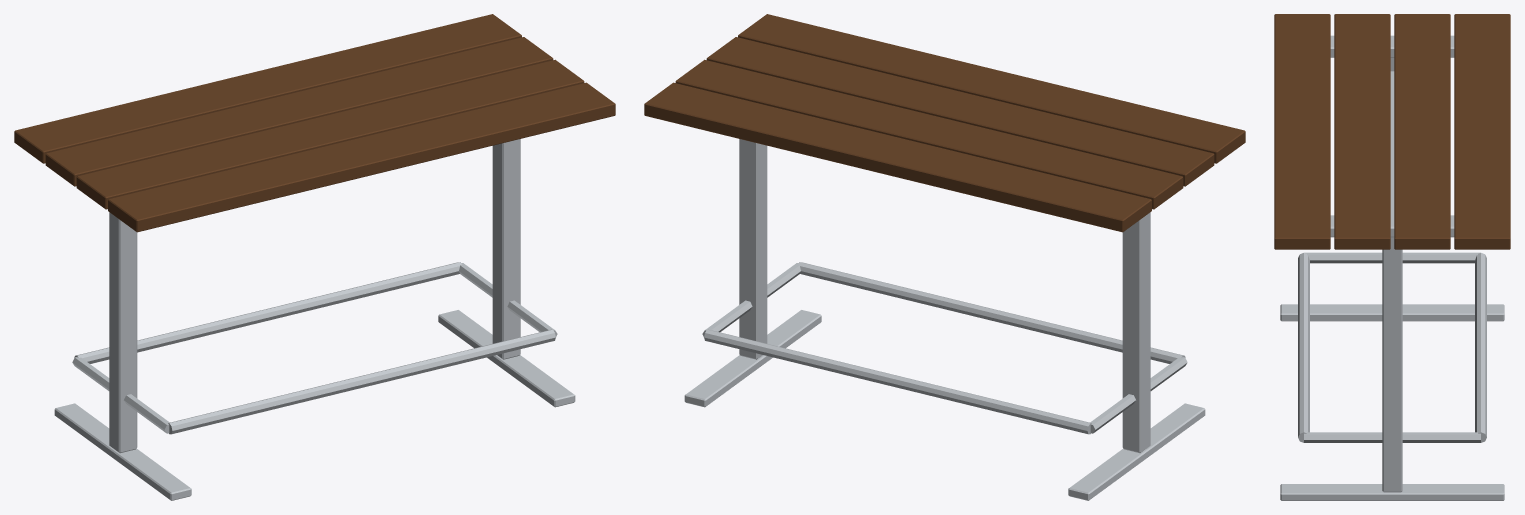
Rendered from HighTable.obj.
3 renders of one model, left to right at view 1: azimuth 30°, elevation 25°; view 2: azimuth 150°, elevation 25°; view 3: azimuth 270°, elevation 25°, orthographic. The views are drawn at different scales.
Visible parts, largest first — view 1: taproom-high-table_1, taproom-high-table_0; view 2: taproom-high-table_1, taproom-high-table_0; view 3: taproom-high-table_1, taproom-high-table_0.
Part boxes in pixels (x1,y1,x2,y2): taproom-high-table_1: (14, 14, 615, 232); taproom-high-table_0: (54, 139, 575, 500); taproom-high-table_1: (644, 14, 1245, 232); taproom-high-table_0: (684, 139, 1205, 500); taproom-high-table_1: (1274, 14, 1510, 249); taproom-high-table_0: (1280, 35, 1504, 500).
Bounding box in the file's own units: 1.8 × 1.05 × 0.7999.
